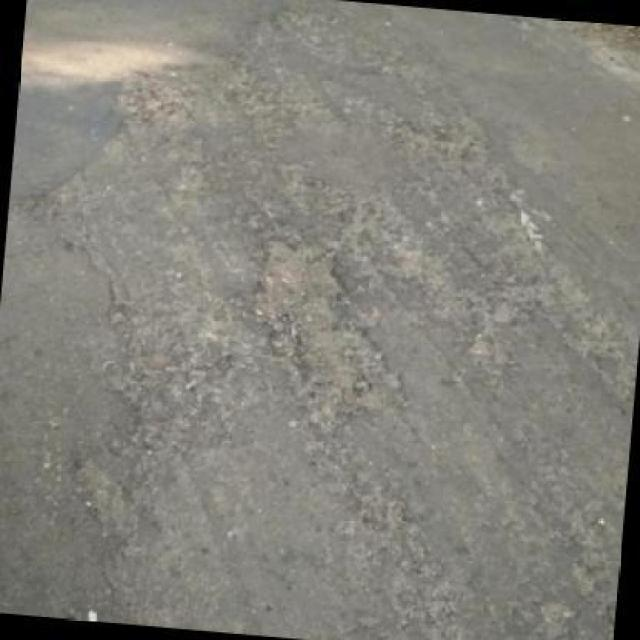pothole: (263, 246, 403, 428)
